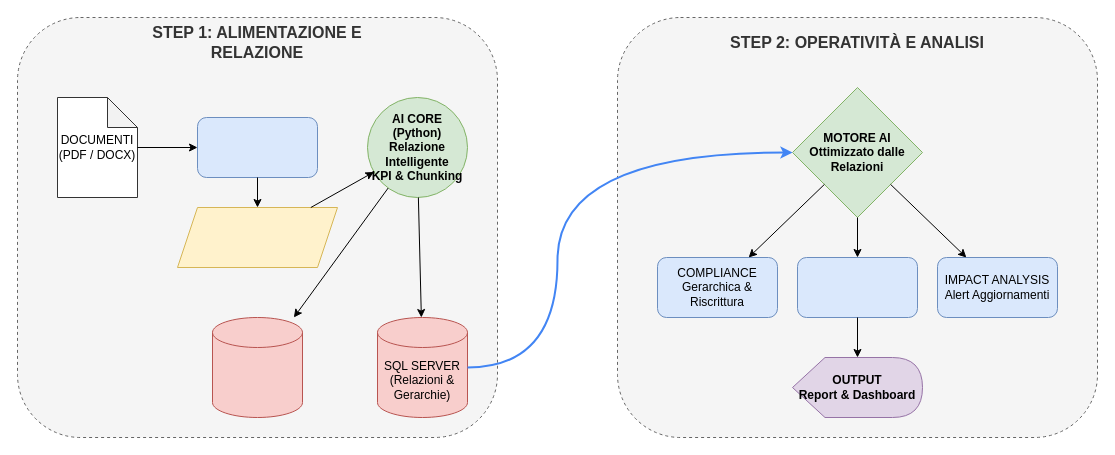
The diagram is 1115 pixels wide and 455 high, and some of its shapes have lost their labels. The shapes that lost their labels are listed below. From the top down, each one's centre as x and y in pixels, then its label:
At point 257,147: "GUI CARICAMENTO (Dot.Net C#)".
At point 257,237: "SCELTA GERARCHIA L1: Atto Ufficiale L2: Global Policy L3: Doc. Finale".
At point 857,287: "PROCUREMENT Score Qualità Fornitori".
At point 257,367: "MONGODB (Contenuti & Chunk)".
